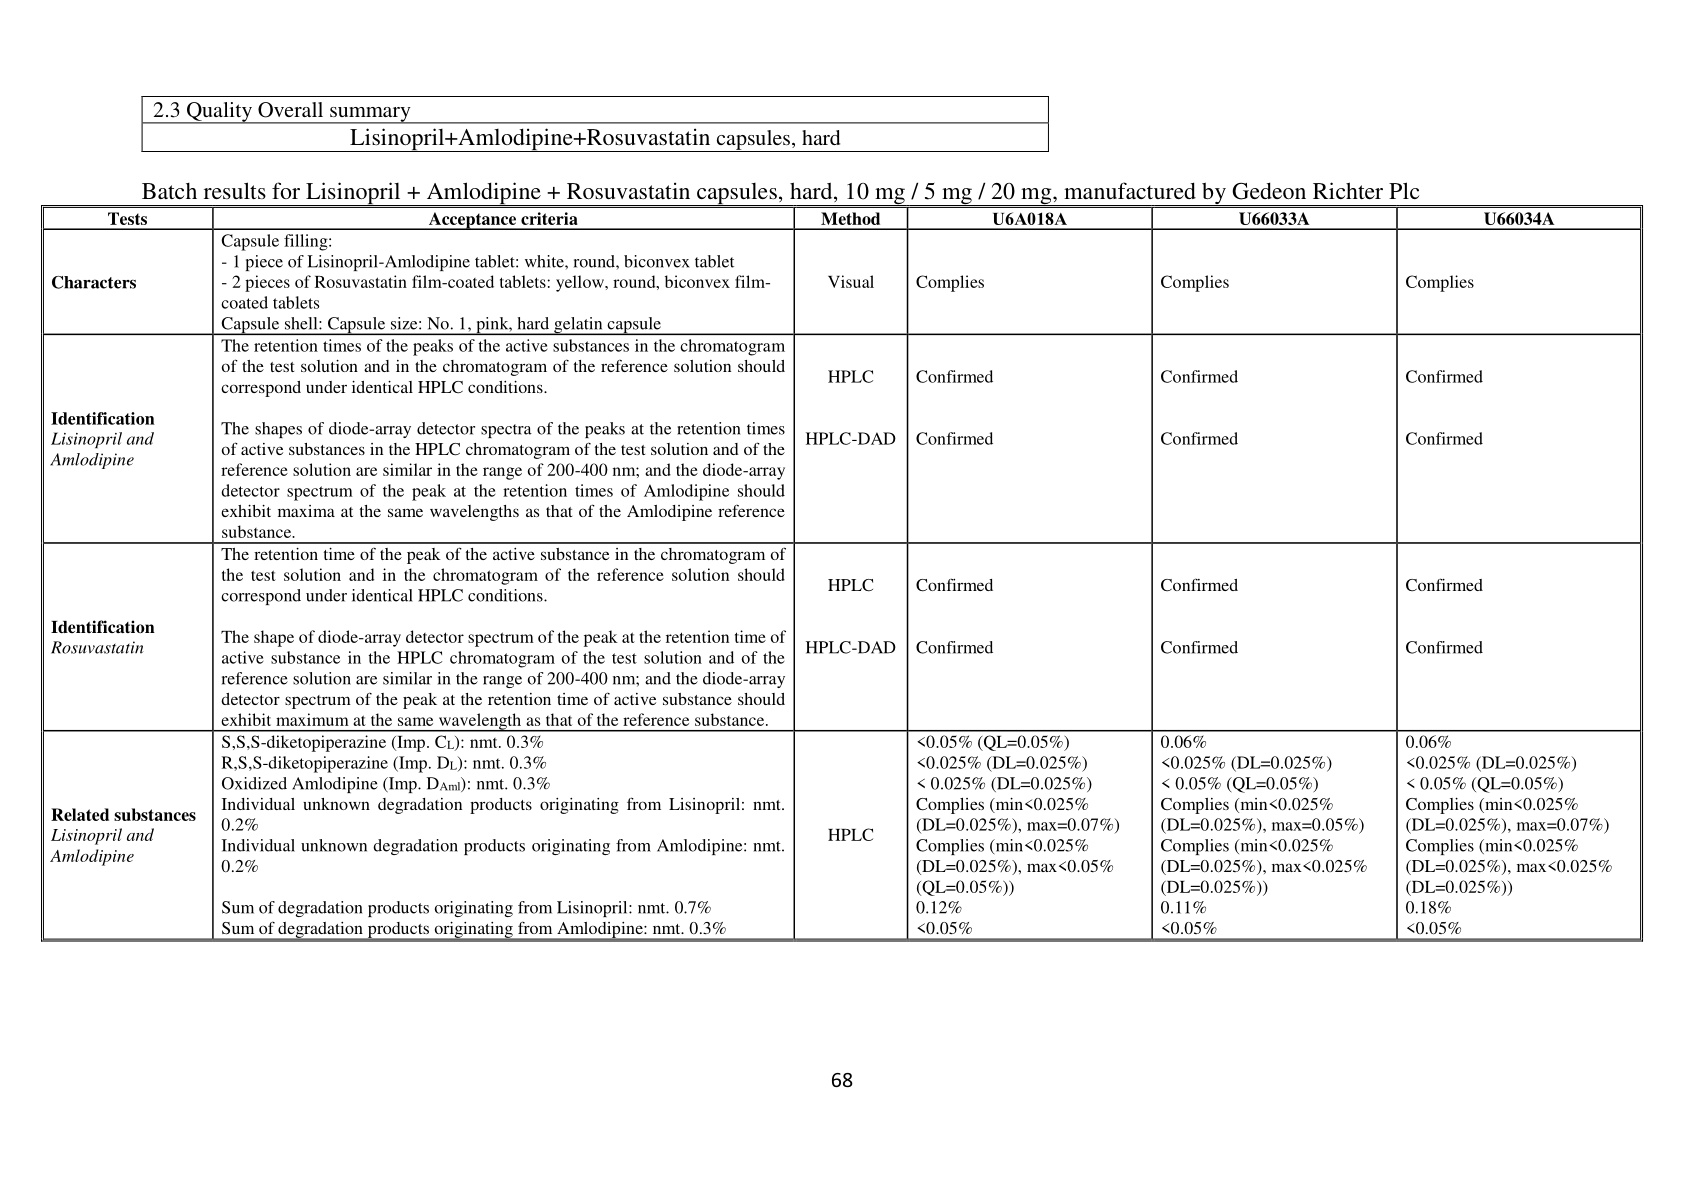full_lined: (43, 210, 1640, 941), (140, 94, 1048, 151)
